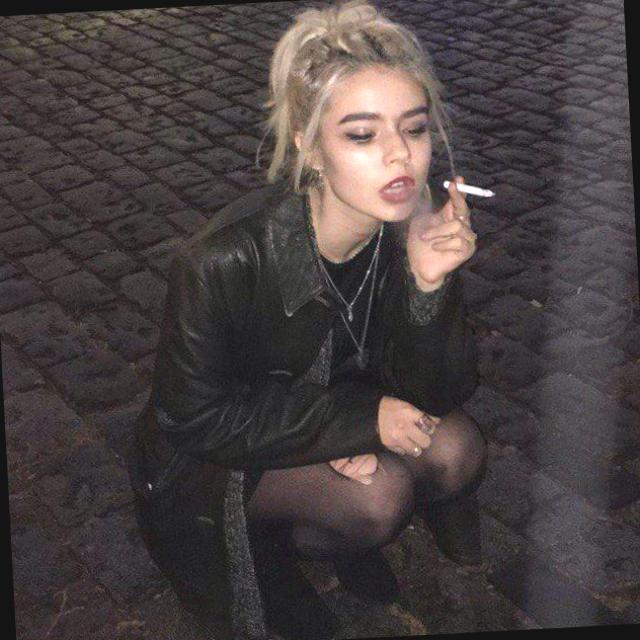smoke: (436, 166, 500, 207)
